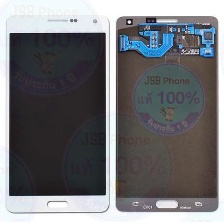phone: (2, 12, 111, 215), (115, 13, 220, 215)
